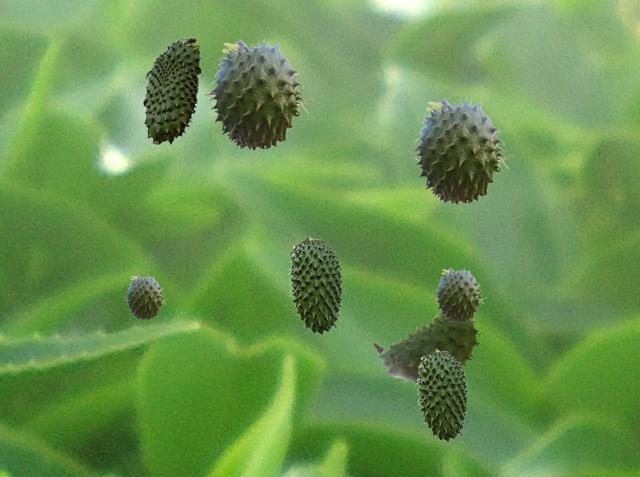guyabano: (203, 38, 313, 150), (408, 97, 513, 204), (373, 312, 479, 386), (142, 37, 201, 144), (288, 236, 343, 334), (416, 348, 468, 441), (432, 267, 486, 322), (123, 274, 167, 319)
